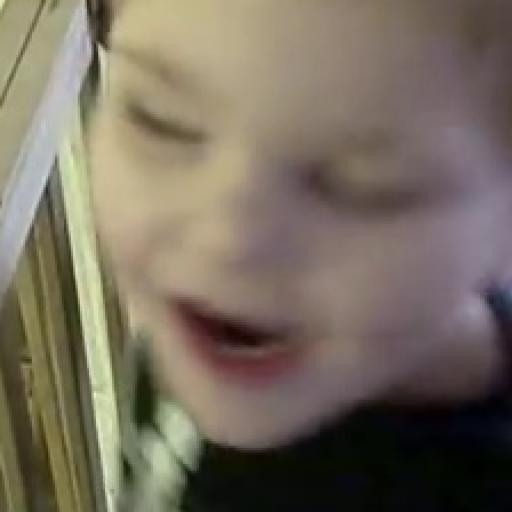Autism: (112, 4, 512, 462)
